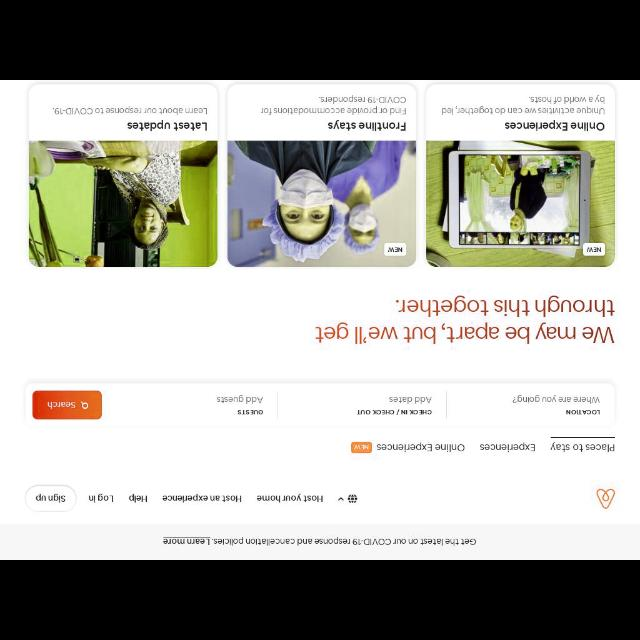icon: (338, 494, 358, 504)
image: (425, 140, 617, 268), (227, 139, 417, 267), (29, 140, 218, 268), (596, 486, 616, 510)
multitab: (338, 430, 616, 458)
panel: (23, 382, 614, 424), (1, 525, 637, 559)
text: (312, 298, 616, 346), (160, 536, 476, 546), (440, 96, 606, 114), (260, 95, 408, 115), (51, 106, 207, 114), (126, 118, 208, 132), (502, 121, 606, 132), (549, 438, 615, 454), (376, 442, 464, 454), (326, 120, 406, 130), (162, 493, 242, 503), (258, 492, 322, 504), (512, 396, 598, 404), (478, 443, 538, 453), (214, 395, 264, 405), (356, 410, 432, 416), (388, 395, 432, 403), (89, 492, 115, 502), (564, 410, 602, 416), (128, 494, 148, 504), (237, 410, 263, 414)
textbutton: (34, 389, 102, 419), (25, 484, 77, 514)
